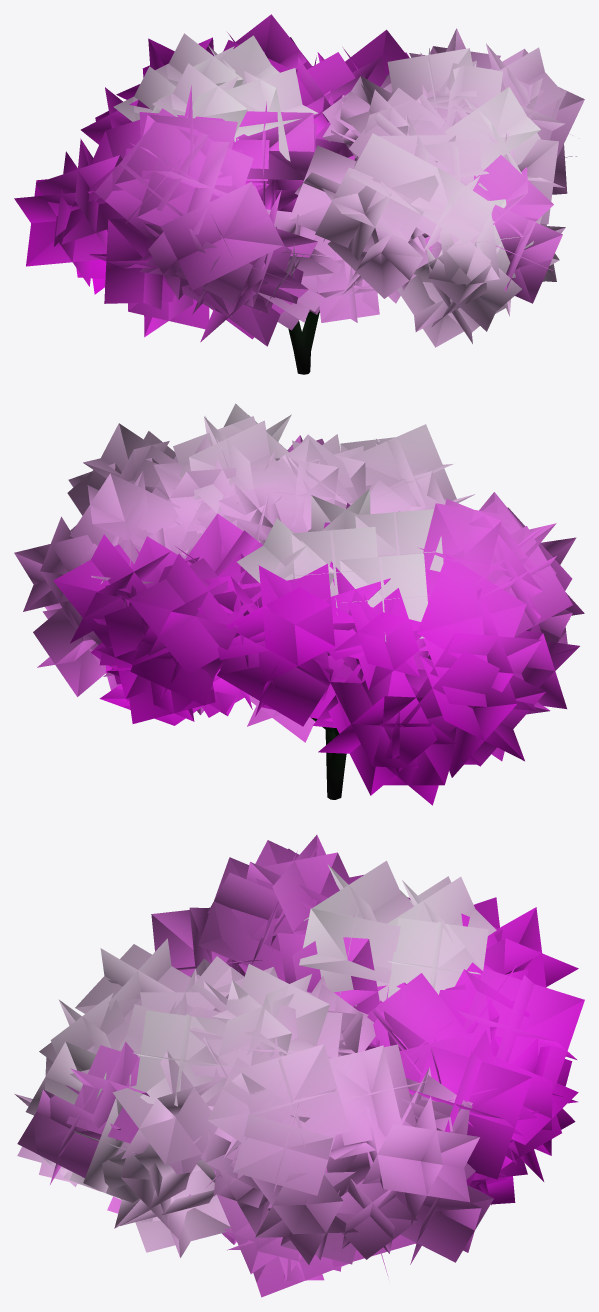
Rendered from TSI_Blossom_Shrub_01A.fbx.
The picture shows the model from 3 angles, top to bottom: view 1: azimuth 30°, elevation 25°; view 2: azimuth 150°, elevation 25°; view 3: azimuth 270°, elevation 25°; orthographic projection. The views are drawn at different scales.
Visible parts, largest first — view 1: TSI_Blossom_Shrub_01A_LOD0; view 2: TSI_Blossom_Shrub_01A_LOD0; view 3: TSI_Blossom_Shrub_01A_LOD0.
Part boxes in pixels (x1=…): TSI_Blossom_Shrub_01A_LOD0: x1=14, y1=14, x2=584, y2=374; TSI_Blossom_Shrub_01A_LOD0: x1=14, y1=403, x2=584, y2=805; TSI_Blossom_Shrub_01A_LOD0: x1=14, y1=835, x2=584, y2=1297.
Size of the model in its own units: 649 by 385 by 555.
